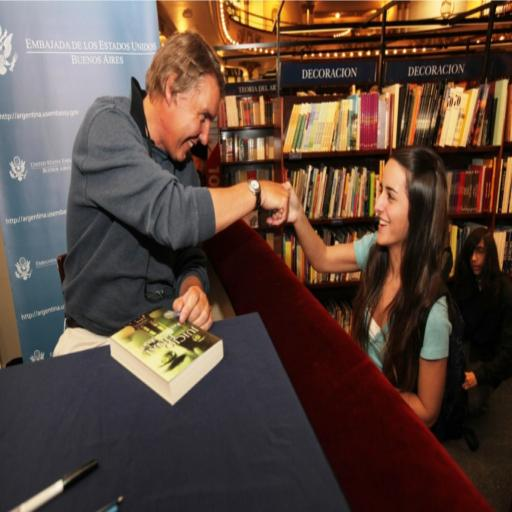bed: (111, 308, 223, 405), (492, 79, 508, 145)
hole: (52, 26, 512, 425)
laptop: (54, 31, 288, 355), (289, 147, 451, 426), (452, 227, 511, 416)
stroller: (0, 314, 348, 511)
